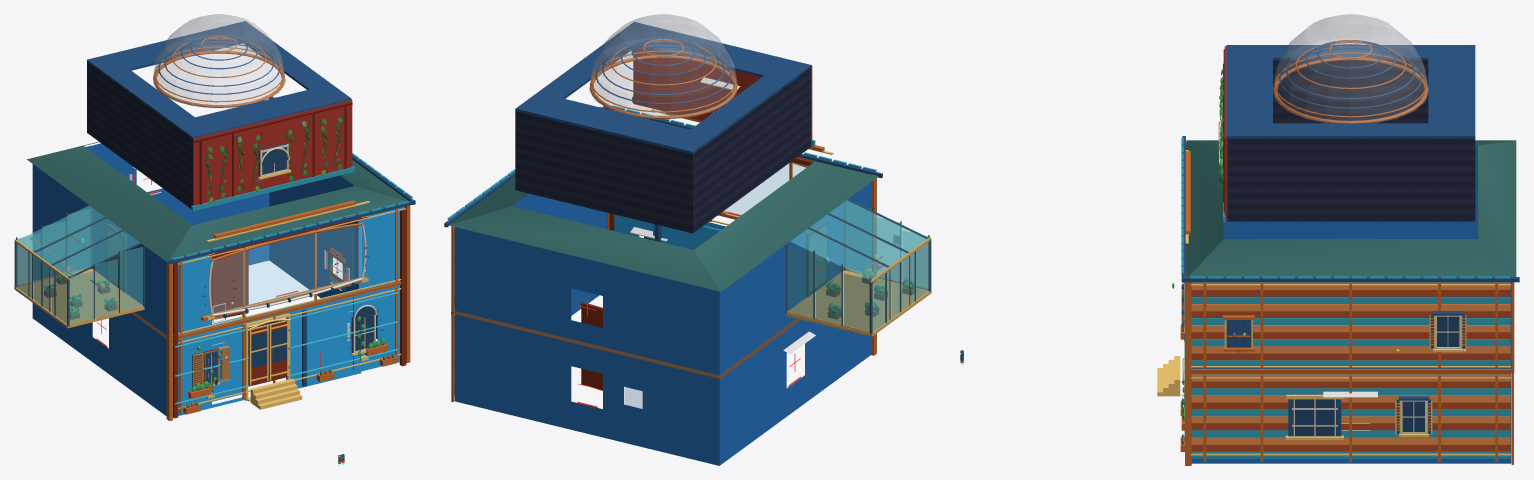
File: exterior-home-BWAOPiVr.glb
3 renders of one model, left to right at view 1: azimuth 30°, elevation 25°; view 2: azimuth 150°, elevation 25°; view 3: azimuth 270°, elevation 25°, orthographic. The views are drawn at different scales.
Parts seen in each view (by area): view 1: WallLeft, RoofMain, ObsDome, ObsFront, WallFront, CUTAWAY_UpperOpening_Glass, ObsLeft, WallRight, EXT_GroundFacade_Right, EXT_ObservatoryRoof_Front, EXT_ObservatoryRoof_Back, AVIARY_Left_Floor (+43 smaller); view 2: WallBack, WallLeft, RoofMain, ObsBack, ObsDome, ObsLeft, ObsFront, EXT_ObservatoryRoof_Back, AVIARY_Left_Floor, EXT_ObservatoryRoof_Front, EXT_ObservatoryRoof_Left, WallRight (+25 smaller); view 3: ObsRight, RoofMain, ObsDome, ObsLeft, WallRight, WallLeft, EXT_ObservatoryRoof_Back, EXT_ObservatoryRoof_Front, EXT_ObservatoryRoof_Right, EXT_Right_Lower_Board_1, EXT_Right_Lower_Board_10, EXT_Right_Upper_Board_1 (+38 smaller).
Boxes of the visible parts, x1,y1,x2,y2 form: WallLeft: (32, 164, 166, 415); RoofMain: (27, 142, 407, 260); ObsDome: (153, 14, 285, 107); ObsFront: (193, 100, 352, 205); WallFront: (178, 207, 404, 415); CUTAWAY_UpperOpening_Glass: (212, 225, 361, 313); ObsLeft: (87, 61, 192, 208); WallRight: (269, 175, 377, 339); EXT_GroundFacade_Right: (286, 297, 361, 388); EXT_ObservatoryRoof_Front: (173, 84, 351, 139); EXT_ObservatoryRoof_Back: (87, 21, 264, 76); AVIARY_Left_Floor: (14, 269, 144, 328); WallBack: (454, 227, 719, 465); WallLeft: (719, 182, 871, 465); RoofMain: (449, 157, 878, 291); ObsBack: (515, 110, 692, 233); ObsDome: (589, 14, 737, 119); ObsLeft: (693, 67, 810, 233); ObsFront: (633, 47, 812, 146); EXT_ObservatoryRoof_Back: (515, 92, 715, 154); AVIARY_Left_Floor: (785, 270, 931, 336); EXT_ObservatoryRoof_Front: (612, 22, 811, 83); EXT_ObservatoryRoof_Left: (691, 75, 789, 137); WallRight: (512, 193, 606, 315); ObsRight: (1226, 137, 1475, 221); RoofMain: (1186, 140, 1516, 276); ObsDome: (1273, 14, 1428, 123); ObsLeft: (1273, 60, 1428, 123); WallRight: (1191, 282, 1511, 463); WallLeft: (1223, 145, 1477, 238); EXT_ObservatoryRoof_Back: (1428, 45, 1475, 138); EXT_ObservatoryRoof_Front: (1226, 45, 1272, 138); EXT_ObservatoryRoof_Right: (1273, 123, 1428, 138); EXT_Right_Lower_Board_1: (1191, 444, 1510, 451); EXT_Right_Lower_Board_10: (1191, 381, 1510, 388); EXT_Right_Upper_Board_1: (1191, 353, 1510, 360).
Size of the model in its own units: 25.8 by 24.52 by 32.78.
